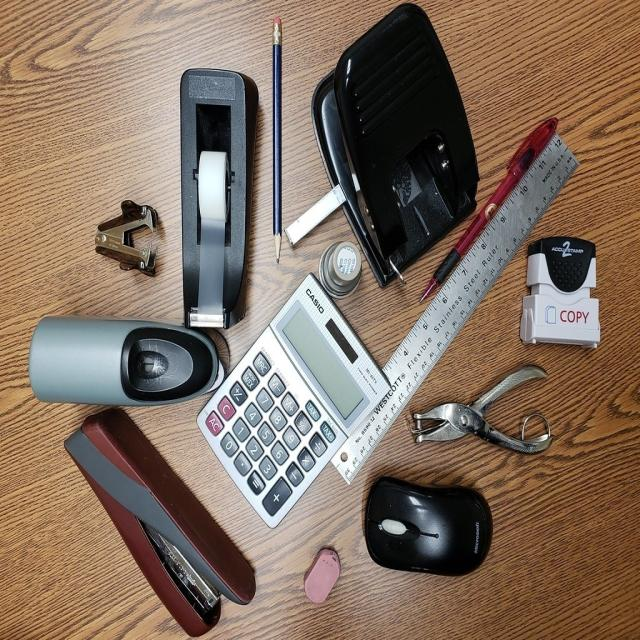E-waste: (31, 13, 607, 626)
